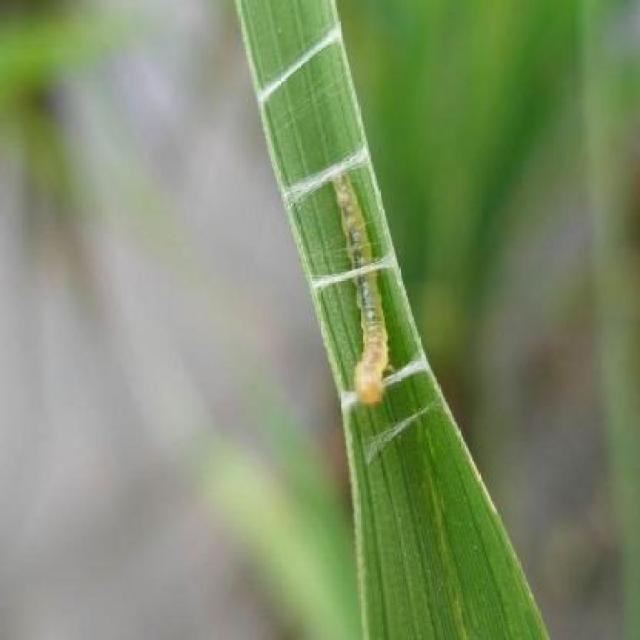leaf-folder: (322, 150, 402, 412)
